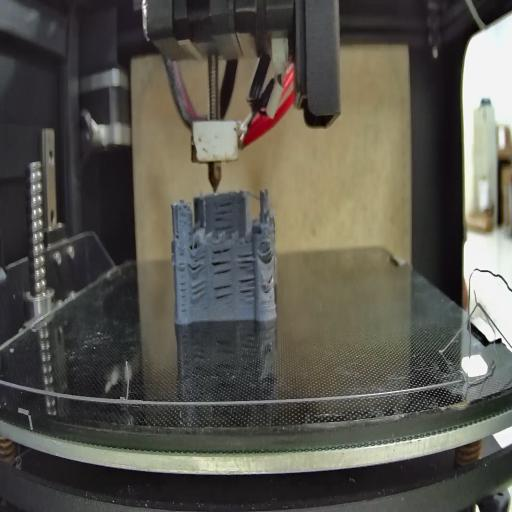cracks: (212, 203, 236, 233), (212, 244, 232, 277), (176, 257, 186, 316), (188, 280, 208, 304), (238, 275, 255, 303), (212, 282, 234, 303), (188, 252, 207, 273), (235, 250, 255, 269), (264, 242, 274, 264), (267, 274, 276, 287), (174, 228, 181, 242)
